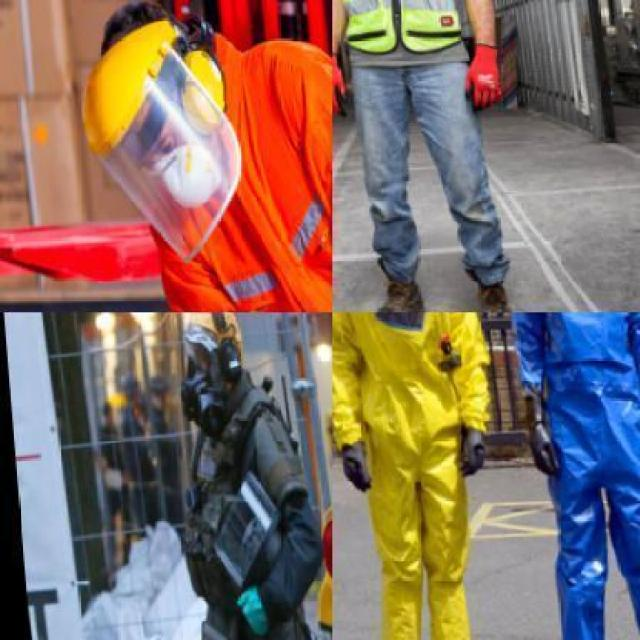Vest: (107, 20, 330, 311), (332, 312, 506, 638), (503, 312, 639, 638), (156, 429, 324, 617), (332, 0, 468, 62)
